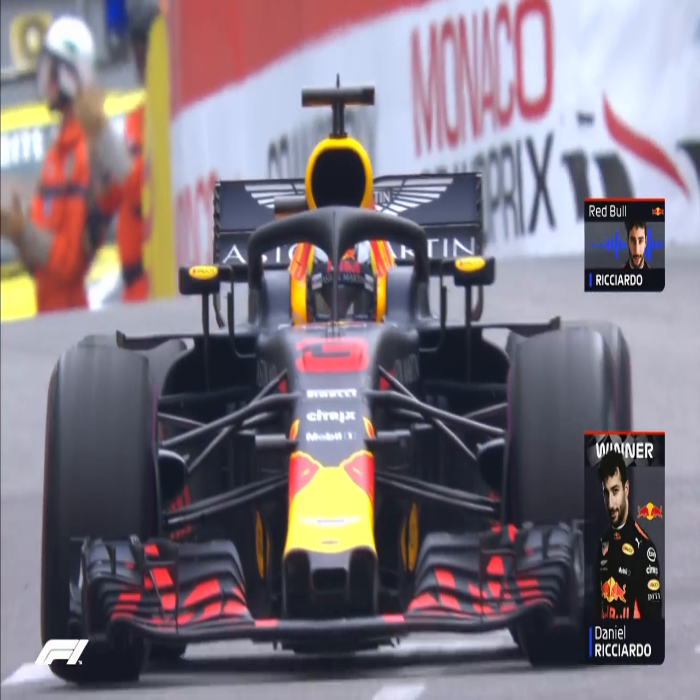f1_car: (27, 72, 684, 683)
